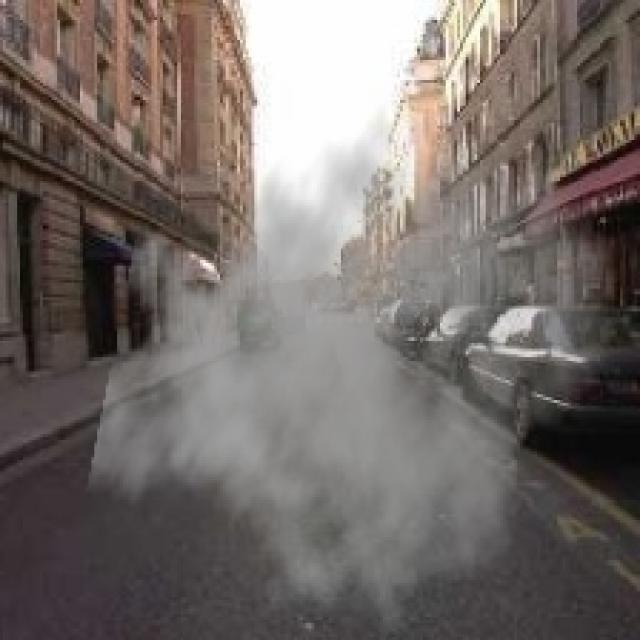Smoke: (85, 82, 618, 638)
